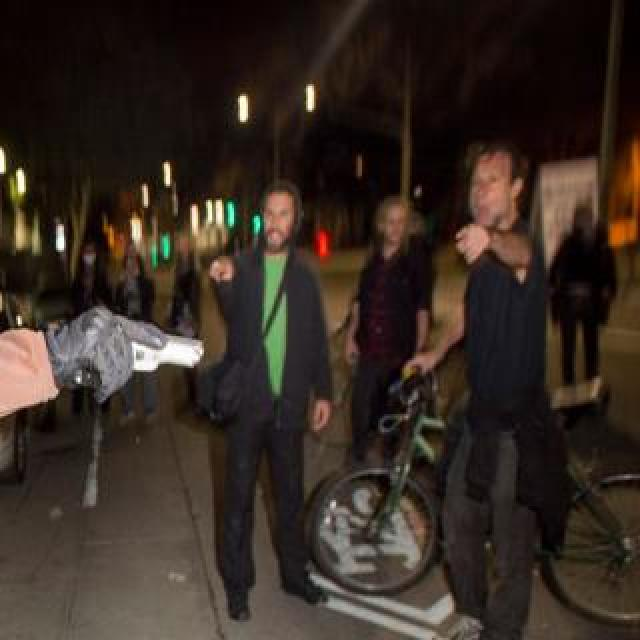Guns: (90, 290, 206, 410)
